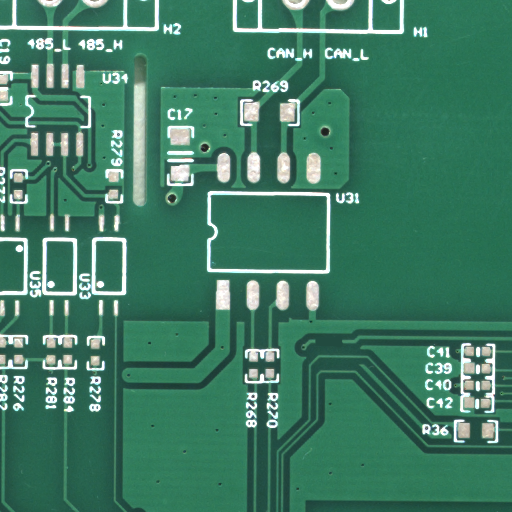Open_circuit: (330, 341, 364, 354)
